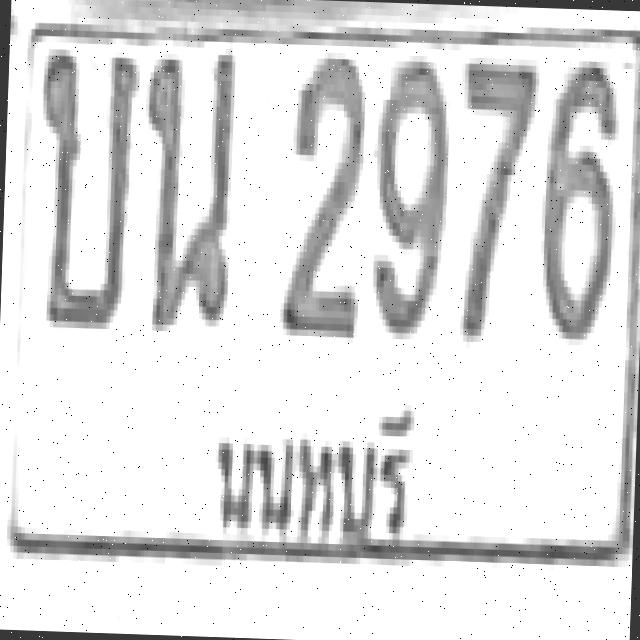2: (279, 47, 363, 334)
34NorNu: (137, 40, 235, 326)
35BorBaiMai: (32, 41, 136, 322)
6: (534, 53, 618, 340)
7: (452, 50, 536, 337)
9: (368, 54, 448, 334)
Nonthaburi: (195, 384, 434, 562)
